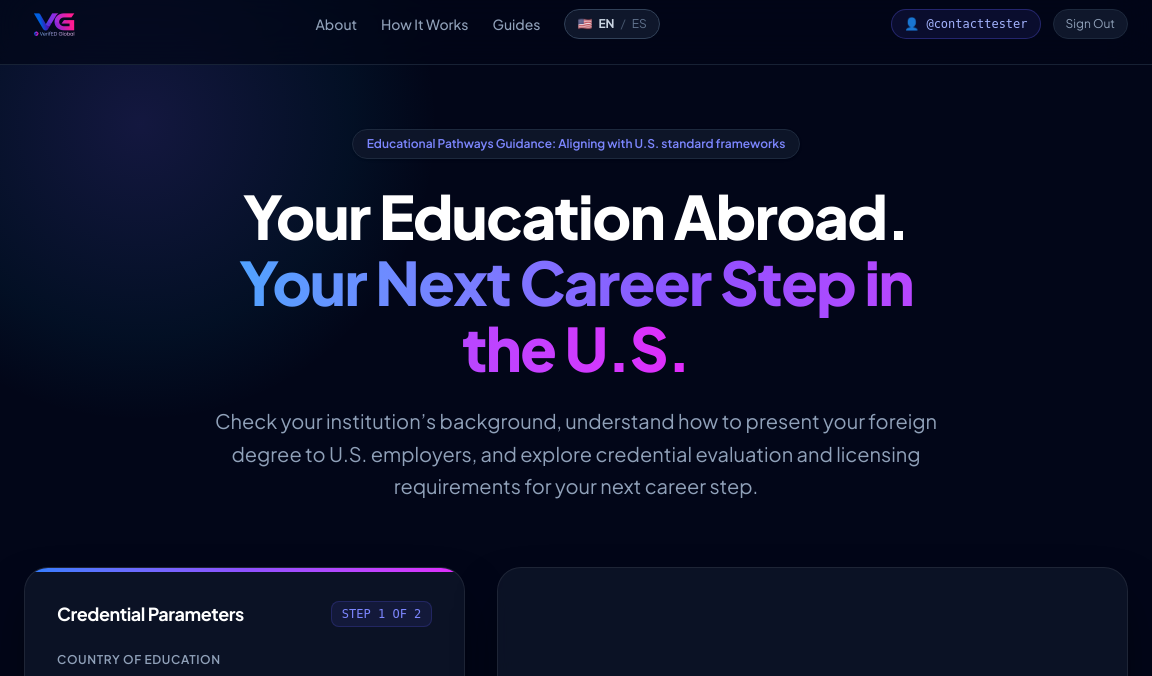
Test: Contact form — Web3Forms submission › shows the Spanish confirmation when Spanish is active
Click the button with test id "button-lang-toggle" at (612, 24), box top-left (564, 9), bottom-right (660, 39)
(page scrolled)
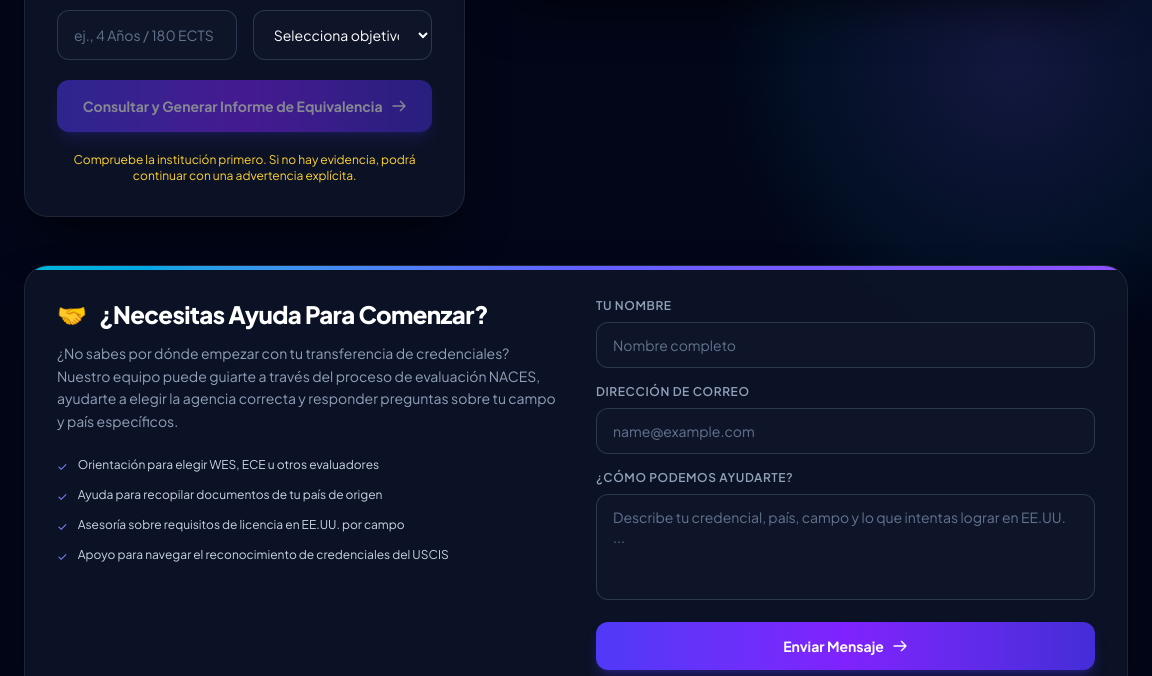
Type "Andrew Tester" into the field with test id "input-contact-name" at (846, 345), box top-left (596, 322), bottom-right (1095, 368)
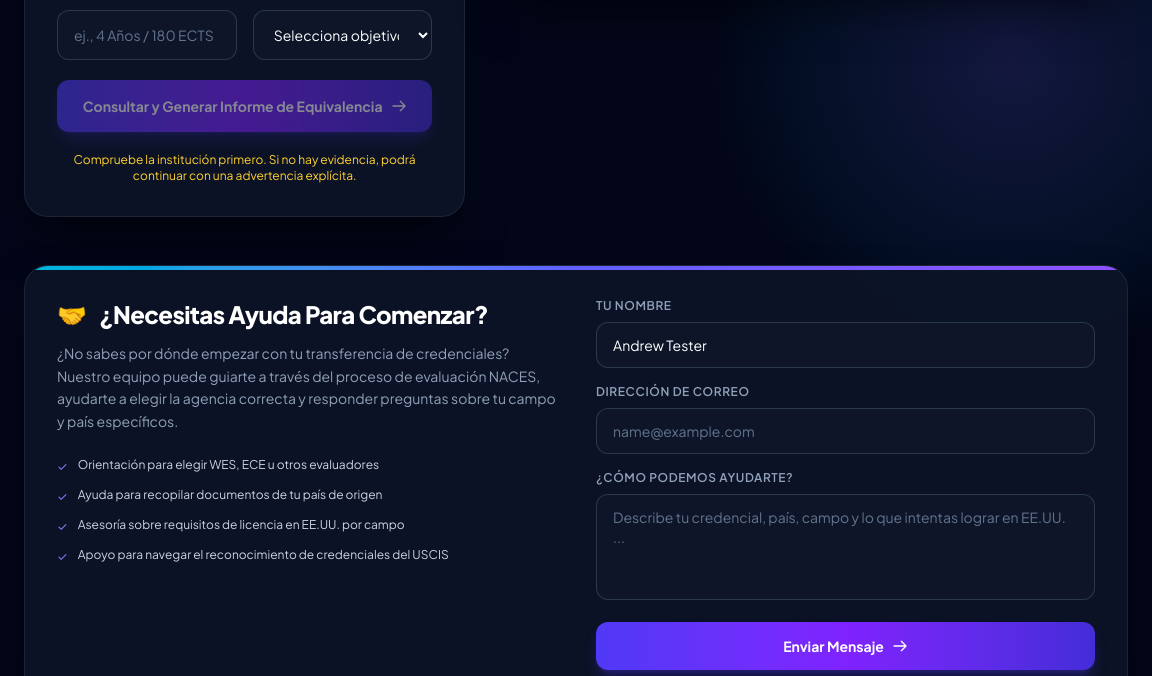
Type "andrew@example.com" into the field with test id "input-contact-email" at (846, 431), box top-left (596, 408), bottom-right (1095, 454)
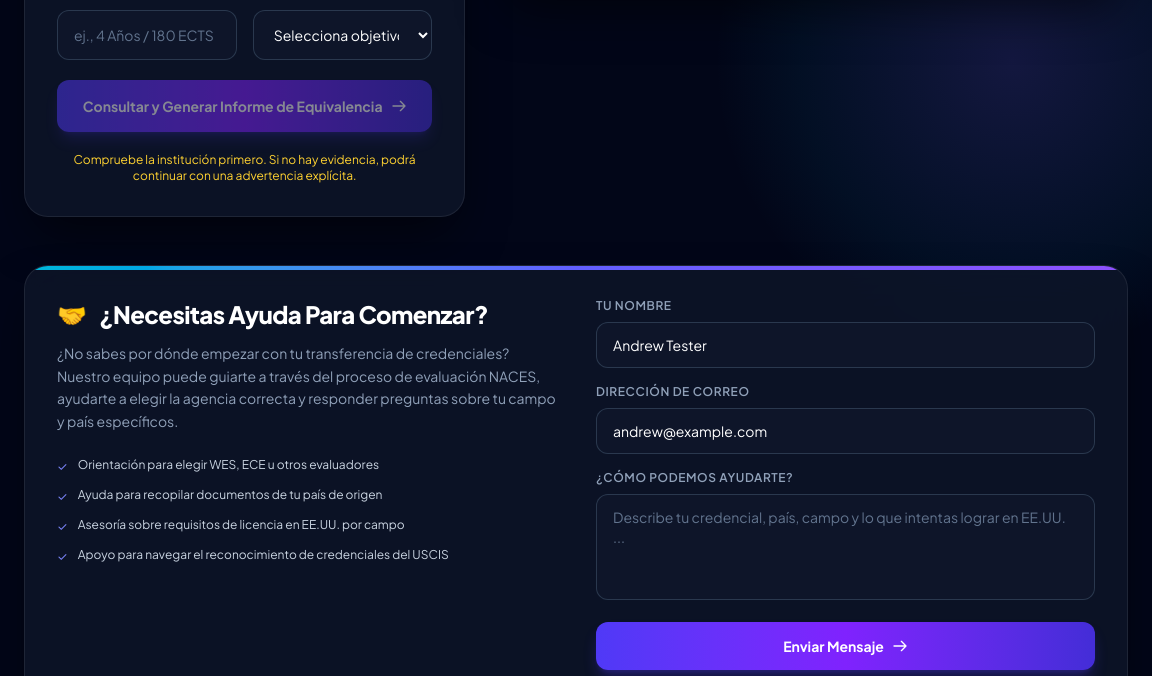
Replace the text in the text box with test id "input-contact-message" with "This is a contact form test." at (846, 547), box top-left (596, 494), bottom-right (1095, 600)
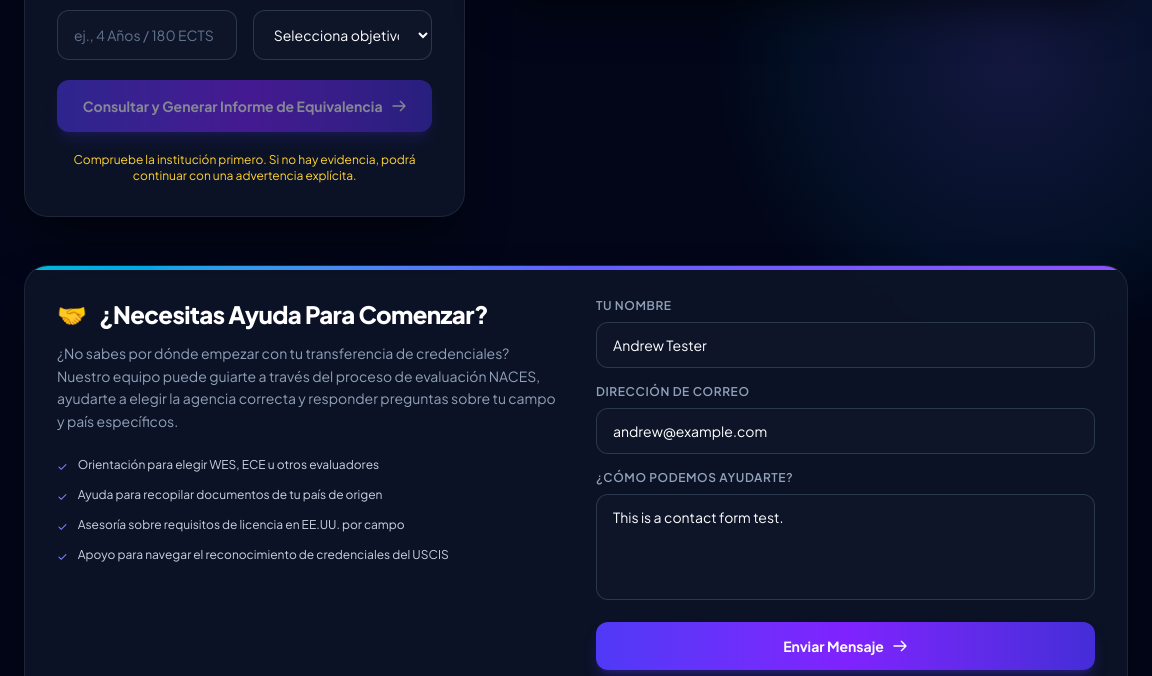
Submit the form with test id "form-contact", box top-left (596, 298), bottom-right (1095, 670)
(page scrolled)
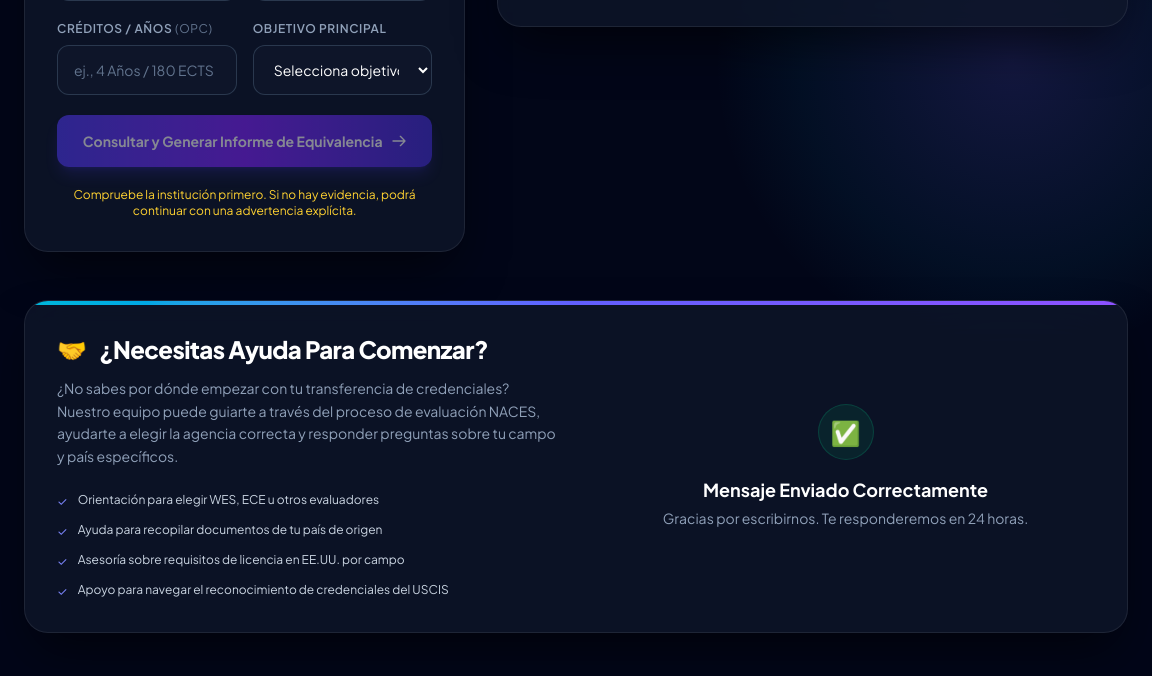
Result: the text "Mensaje Enviado Correctamente" is shown at top-left (703, 476), bottom-right (988, 504)
Result: the text "Gracias por escribirnos. Te responderemos en 24 horas." is shown at top-left (663, 508), bottom-right (1028, 528)
